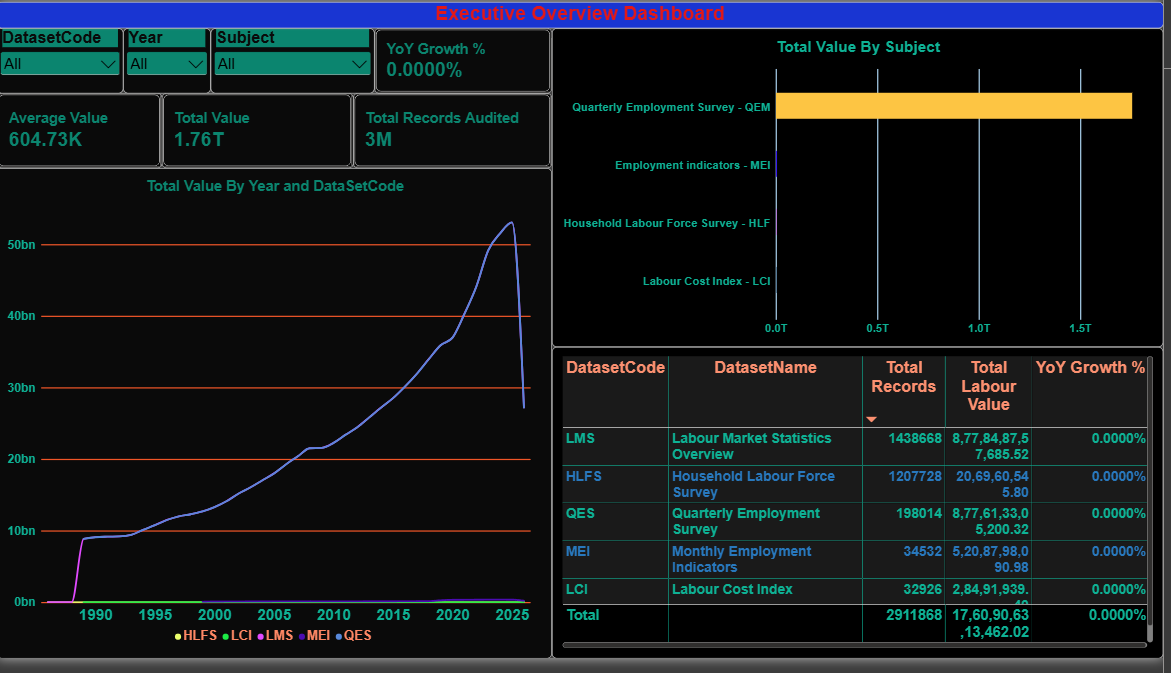

This screenshot's page, from the dashboard's own definition file:
{"tool":"powerbi","page":{"name":"Executive Summary ","canvas":[1920,1080],"ordinal":0},"visuals":[{"type":"cardVisual","fields":{"Data":["_Measures.Total Value"]},"box":[0,290.3,246.1,220.9],"z":0},{"type":"cardVisual","fields":{"Data":["_Measures.Average Value"]},"box":[0,511.1,246.1,176.7],"z":1},{"type":"cardVisual","fields":{"Data":["_Measures.Total Observations"]},"box":[0,687.8,246.1,183],"z":2},{"type":"cardVisual","fields":{"Data":["_Measures.QoQ Growth %"]},"box":[0,870.8,246.1,208.2],"z":3},{"type":"slicer","fields":{"Values":["vw_DimDate.Year"]},"box":[0,69.4,246.1,220.9],"z":4},{"type":"lineChart","fields":{"Category":["vw_DimDate.QuarterName"],"Series":["vw_DimDataset.DatasetCode"],"Y":["_Measures.Total Value"]},"box":[246.1,69.4,950.9,555.7],"z":5},{"type":"clusteredBarChart","fields":{"Category":["vw_DimGroup.Subject"],"Y":["_Measures.Total Value"]},"box":[1196.8,69.4,723.6,1009.6],"z":6},{"type":"pivotTable","fields":{"Columns":["vw_DimDate.Year"],"Rows":["vw_DimSeries.SeriesReference"],"Values":["_Measures.Total Value"]},"box":[246.1,624.7,950.7,454.3],"z":7},{"type":"textbox","box":[0,0,1920.4,69.4],"z":10}]}

Visuals, with their boxes in screenshot pixels (x1, y1, x2, y2), scaled from the page's 1920x1080 canvas onto the 1171x673 screenshot:
cardVisual - _Measures.Total Value: box(0, 181, 150, 319)
cardVisual - _Measures.Average Value: box(0, 318, 150, 429)
cardVisual - _Measures.Total Observations: box(0, 429, 150, 543)
cardVisual - _Measures.QoQ Growth %: box(0, 543, 150, 672)
slicer - vw_DimDate.Year: box(0, 43, 150, 181)
lineChart - vw_DimDate.QuarterName x vw_DimDataset.DatasetCode: box(150, 43, 730, 390)
clusteredBarChart - vw_DimGroup.Subject x _Measures.Total Value: box(730, 43, 1170, 672)
pivotTable - vw_DimDate.Year x vw_DimSeries.SeriesReference: box(150, 389, 730, 672)
textbox: box(0, 0, 1170, 43)
